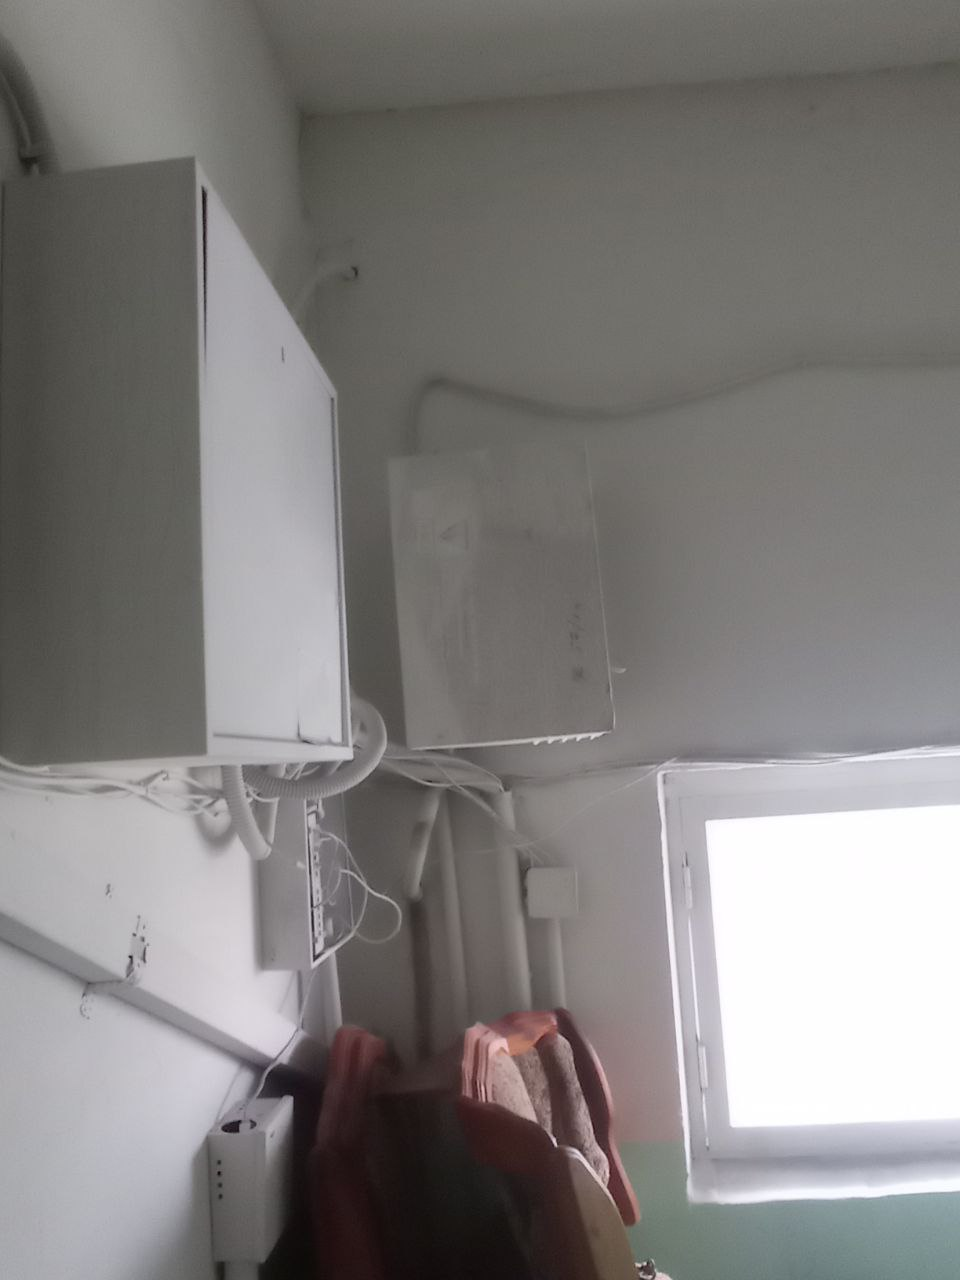sv-5: (382, 444, 617, 752)
